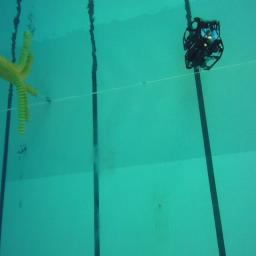front: (184, 34, 223, 71)
